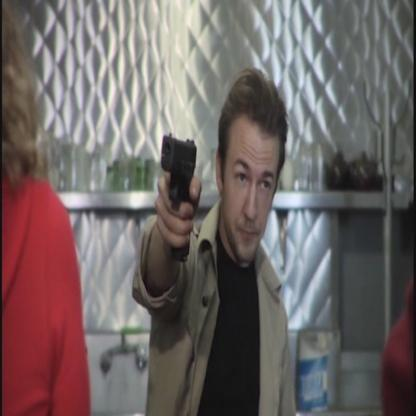gun: (152, 118, 197, 268)
